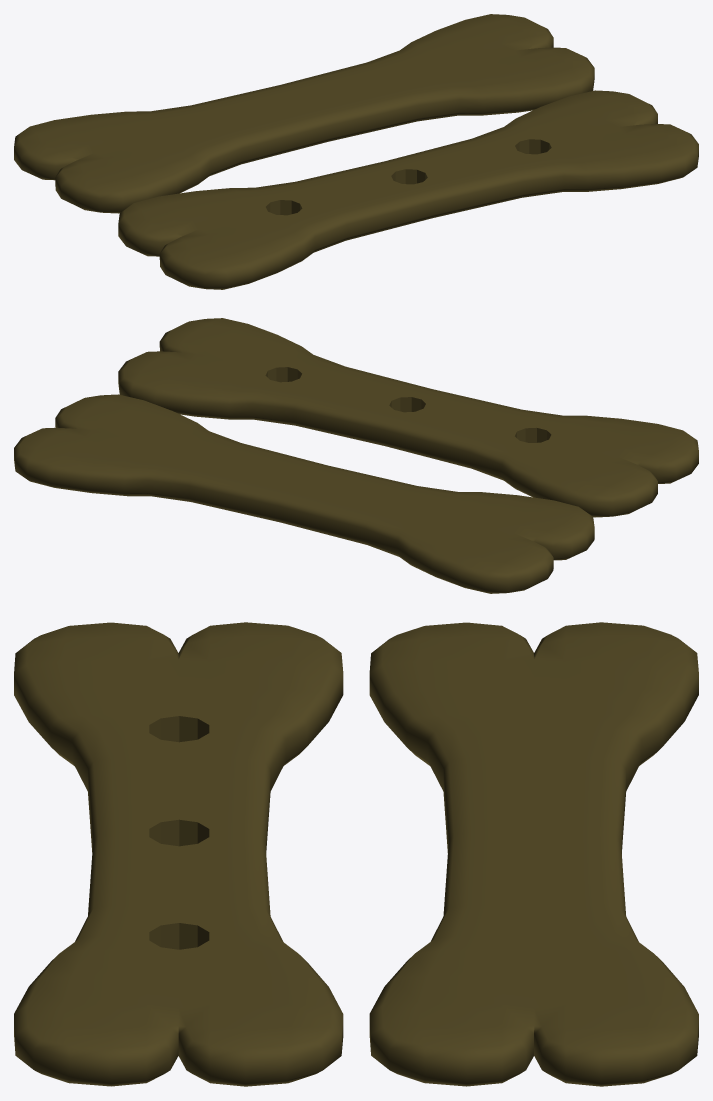
Rendered from dog-biscuit.glb.
3 renders of one model, top to bottom at view 1: azimuth 30°, elevation 25°; view 2: azimuth 150°, elevation 25°; view 3: azimuth 270°, elevation 25°, orthographic. The views are drawn at different scales.
Visible parts, largest first — view 1: DOgBiscuit2, DogBiscuit1; view 2: DogBiscuit1, DOgBiscuit2; view 3: DOgBiscuit2, DogBiscuit1.
Boxes of the visible parts, bbox=[...] form: DOgBiscuit2: bbox=[118, 90, 698, 289]; DogBiscuit1: bbox=[14, 14, 594, 213]; DogBiscuit1: bbox=[14, 394, 594, 593]; DOgBiscuit2: bbox=[118, 318, 698, 517]; DOgBiscuit2: bbox=[14, 622, 343, 1086]; DogBiscuit1: bbox=[369, 622, 698, 1086].
Bounding box in the file's own units: 0.1455 × 0.00683 × 0.0963.
